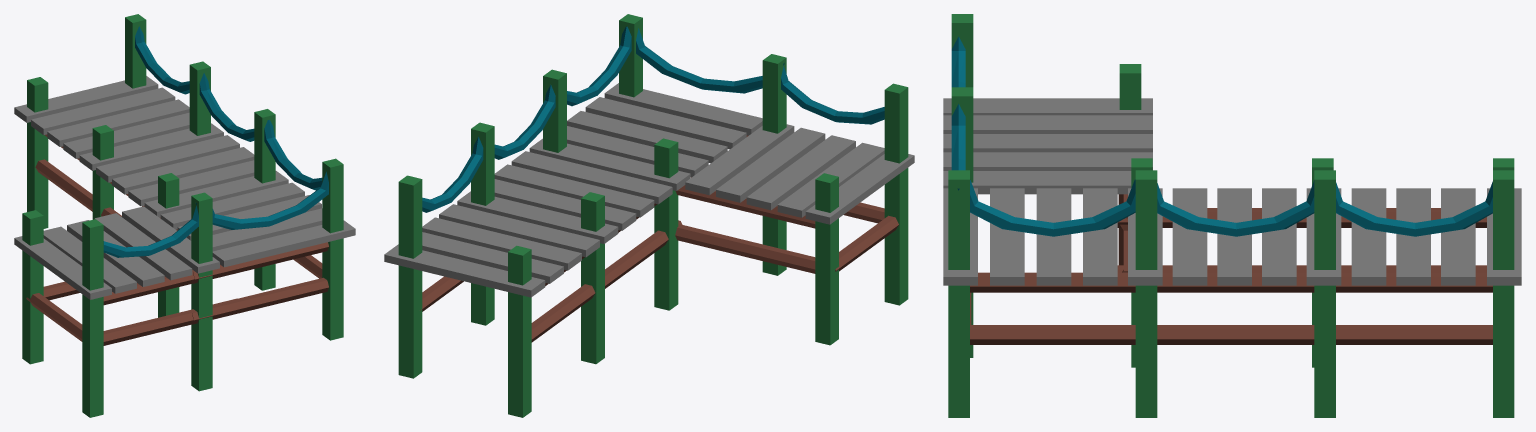
File: port.fbx
The picture shows the model from 3 angles, left to right: view 1: azimuth 30°, elevation 25°; view 2: azimuth 150°, elevation 25°; view 3: azimuth 270°, elevation 25°; orthographic projection. The views are drawn at different scales.
Parts seen in each view (by area): view 1: Box001; view 2: Box001; view 3: Box001.
Boxes of the visible parts, box(x1,y1,x2,y2) form: Box001: box(14, 14, 355, 417); Box001: box(384, 14, 914, 417); Box001: box(943, 14, 1521, 417).
Size of the model in its own units: 42.51 by 29.53 by 58.22.
